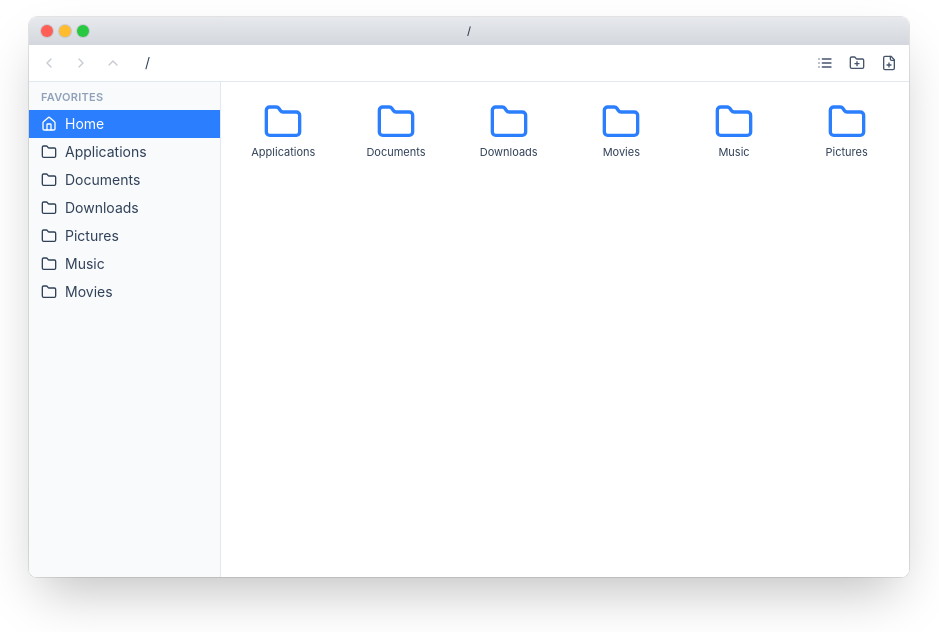
Test: Finder › double-clicking a folder navigates into it and updates the path
Double-click the 1st button "Documents".
double_click(396, 131)  # box [346,94,446,168]
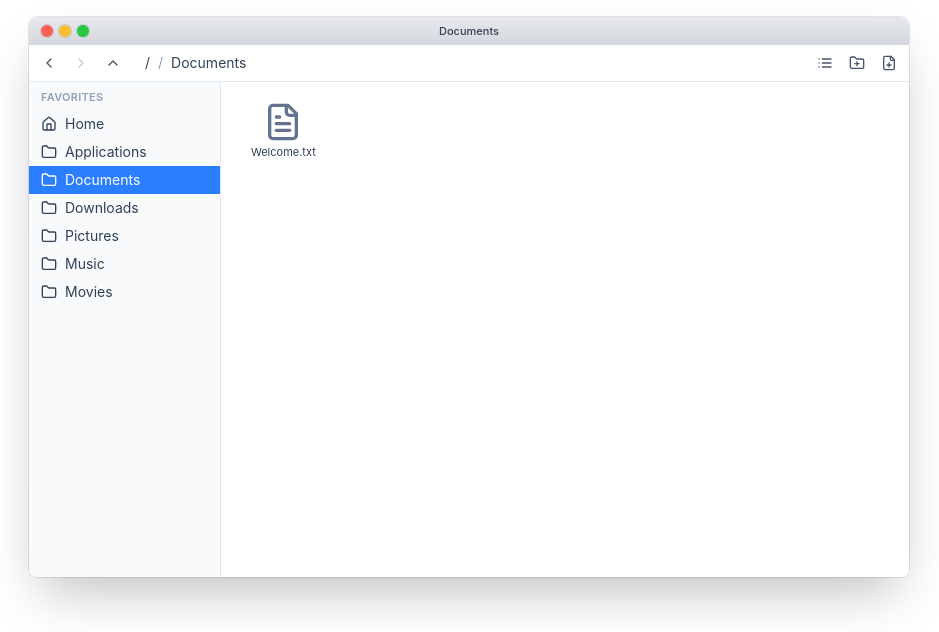
Expected: the 1st text "Documents" is shown, [439,24,499,38]
